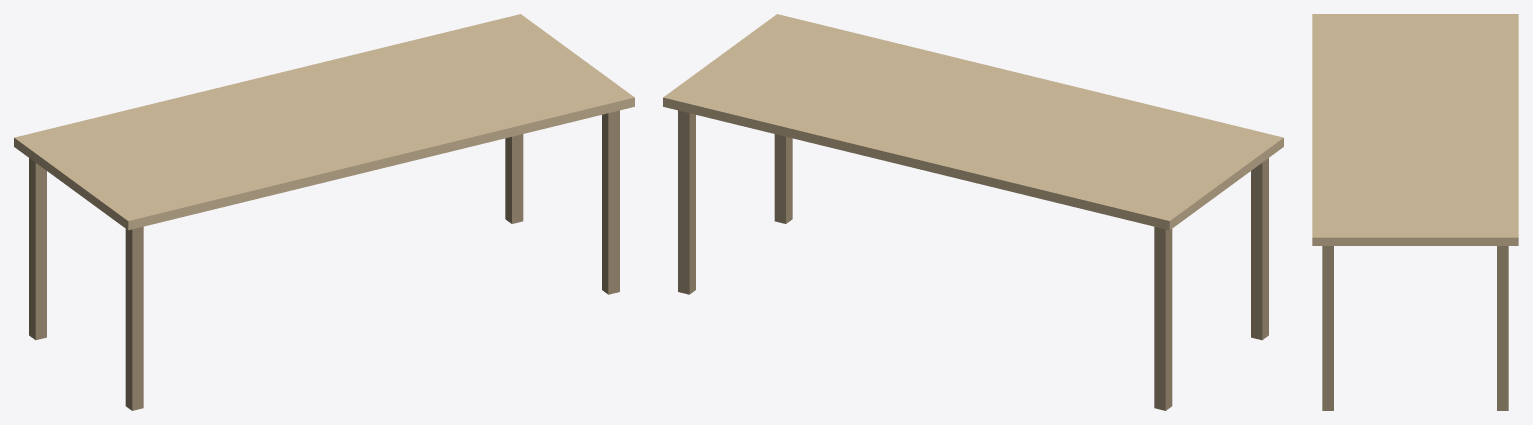
The model's file is table-lisabo.glb.
The picture shows the model from 3 angles, left to right: view 1: azimuth 30°, elevation 25°; view 2: azimuth 150°, elevation 25°; view 3: azimuth 270°, elevation 25°; orthographic projection. The views are drawn at different scales.
Visible parts, largest first — view 1: produit; view 2: produit; view 3: produit.
Boxes of the visible parts, x1=… form: produit: x1=14, y1=14, x2=634, y2=410; produit: x1=663, y1=14, x2=1283, y2=410; produit: x1=1312, y1=14, x2=1518, y2=410.
Bounding box in the file's own units: 2 × 0.74 × 0.78.
